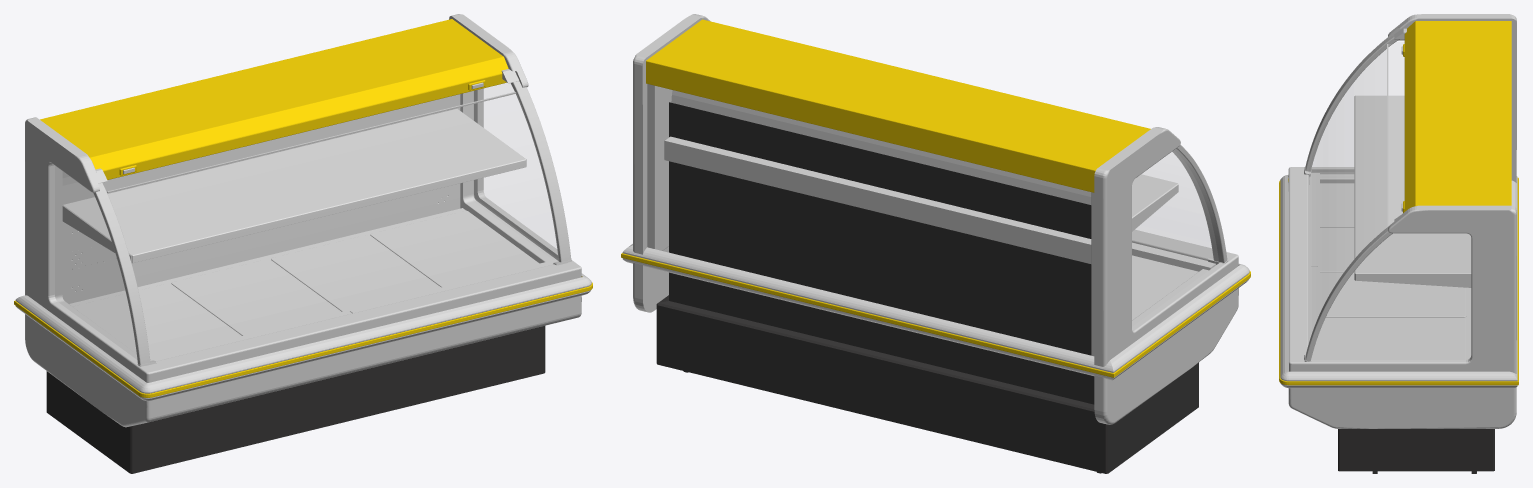
The model's file is tablecake.FBX.
3 renders of one model, left to right at view 1: azimuth 30°, elevation 25°; view 2: azimuth 150°, elevation 25°; view 3: azimuth 270°, elevation 25°, orthographic. The views are drawn at different scales.
Parts seen in each view (by area): view 1: object0; view 2: object0; view 3: object0.
Boxes of the visible parts, x1=… form: object0: x1=14, y1=14, x2=592, y2=473; object0: x1=621, y1=14, x2=1250, y2=473; object0: x1=1279, y1=14, x2=1518, y2=473.
Bounding box in the file's own units: 58.4 × 36.75 × 28.98.
